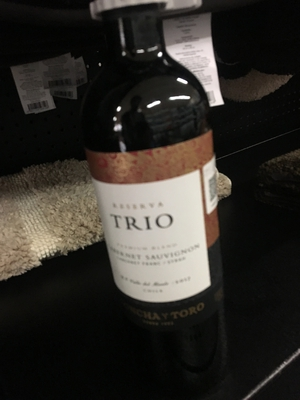trio cabernet sauvignon: (71, 13, 234, 330)
